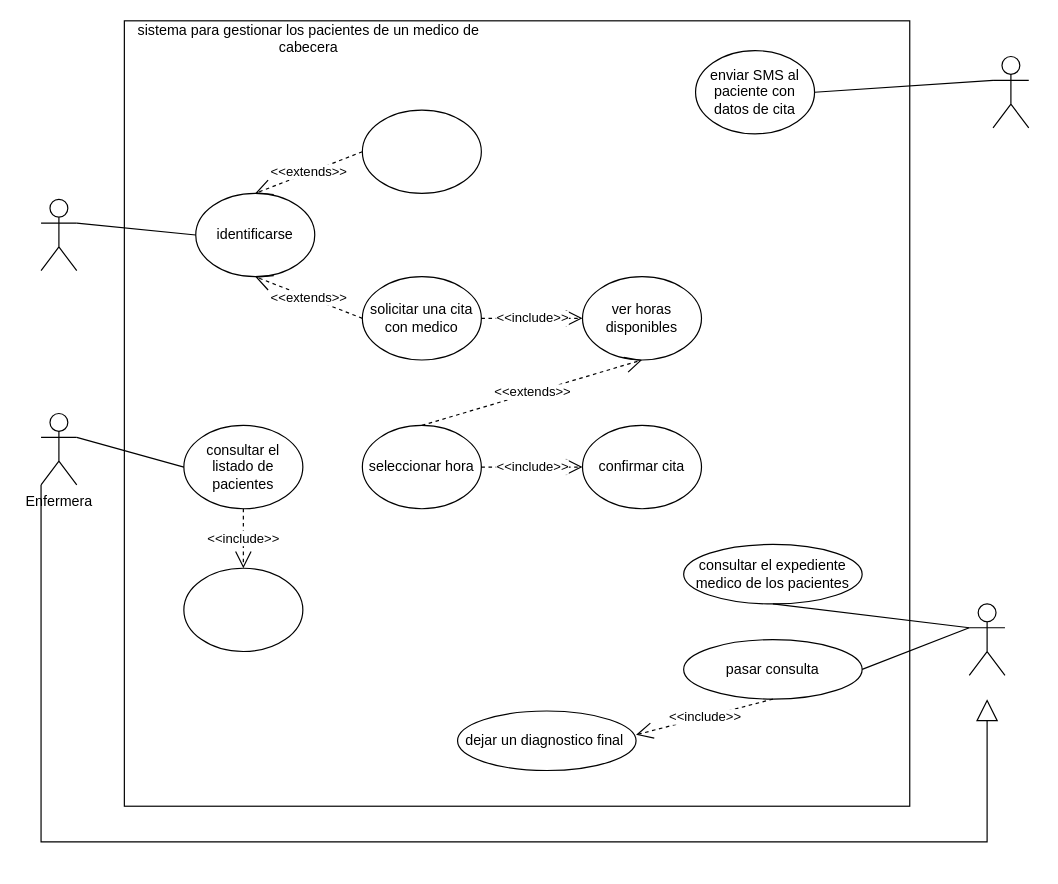
Image size: 1058x884. Some labels were removed from this diagram. Here are the shapes that lost their labels. From the top down, the centre of each, then its label:
[1010,91]: Servidor
[421,151]: ver expediente medico
[58,234]: Paciente
[243,609]: ver el orden de entrada en la consulta
[986,639]: Medico
